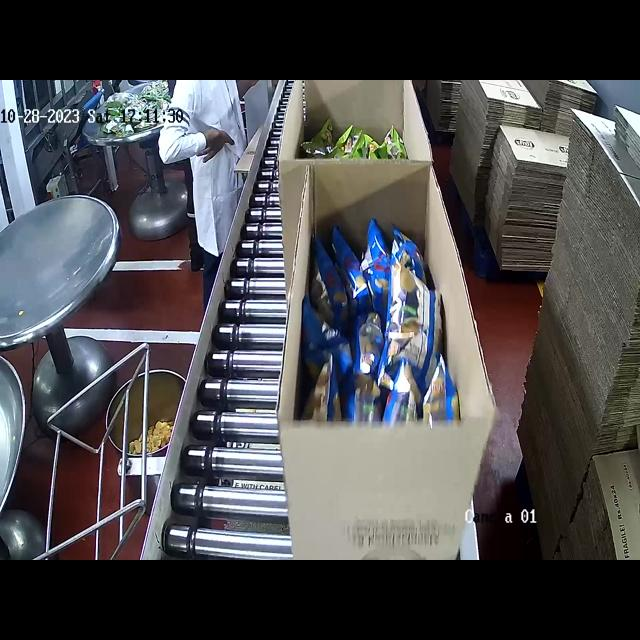paprika: (313, 220, 465, 421)
yogurt: (305, 102, 412, 157)
